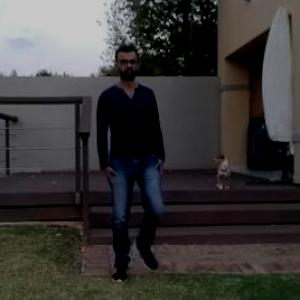follow: (99, 47, 154, 270)
